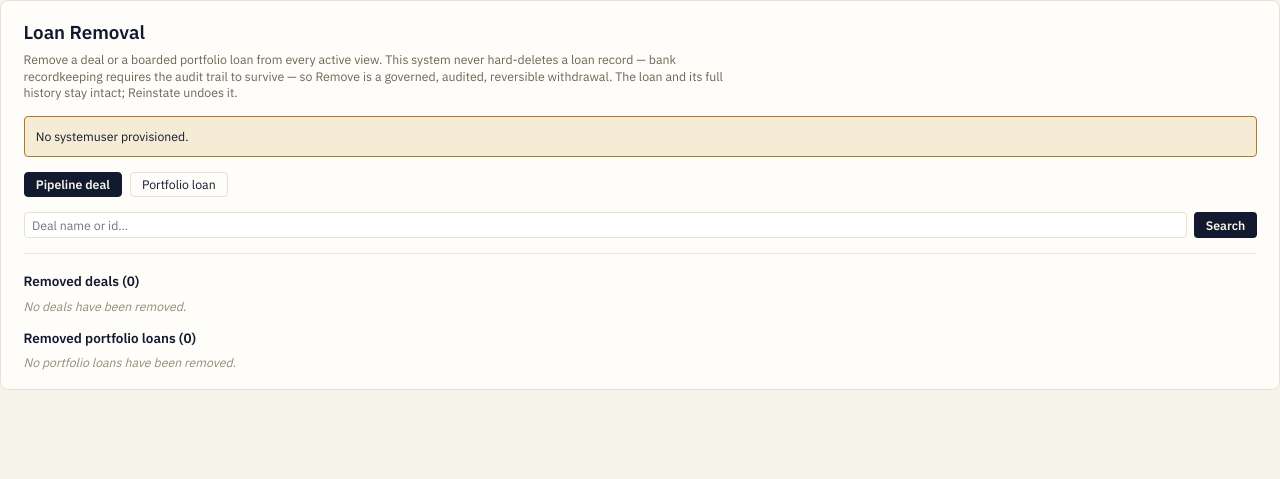
Test: AdminLoanRemovalPanel › is read-only (no remove affordance) when no Dataverse identity is resolved
This screenshot has width=1280, height=479.
Expected: the text "No systemuser provisioned." is shown, [24,116,1256,156]
Type "Acme" into the field named "Search deals by name or id" at (605, 225), box [24,212,1187,238]
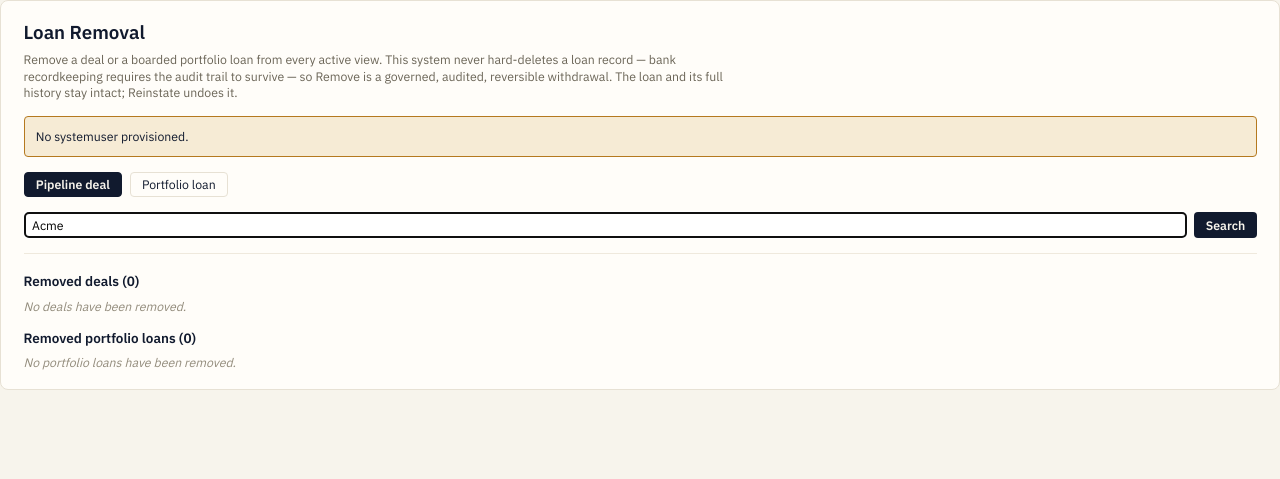
Click the button "Search" at (1225, 225), box [1194,212,1256,238]
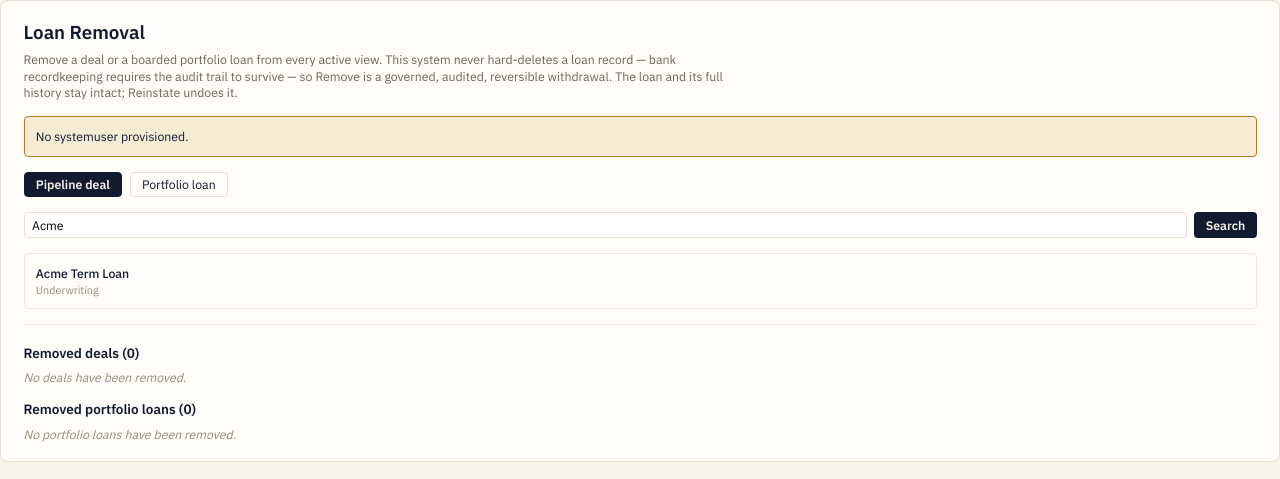
Expected: the text "Acme Term Loan" is shown, [36,265,129,281]
